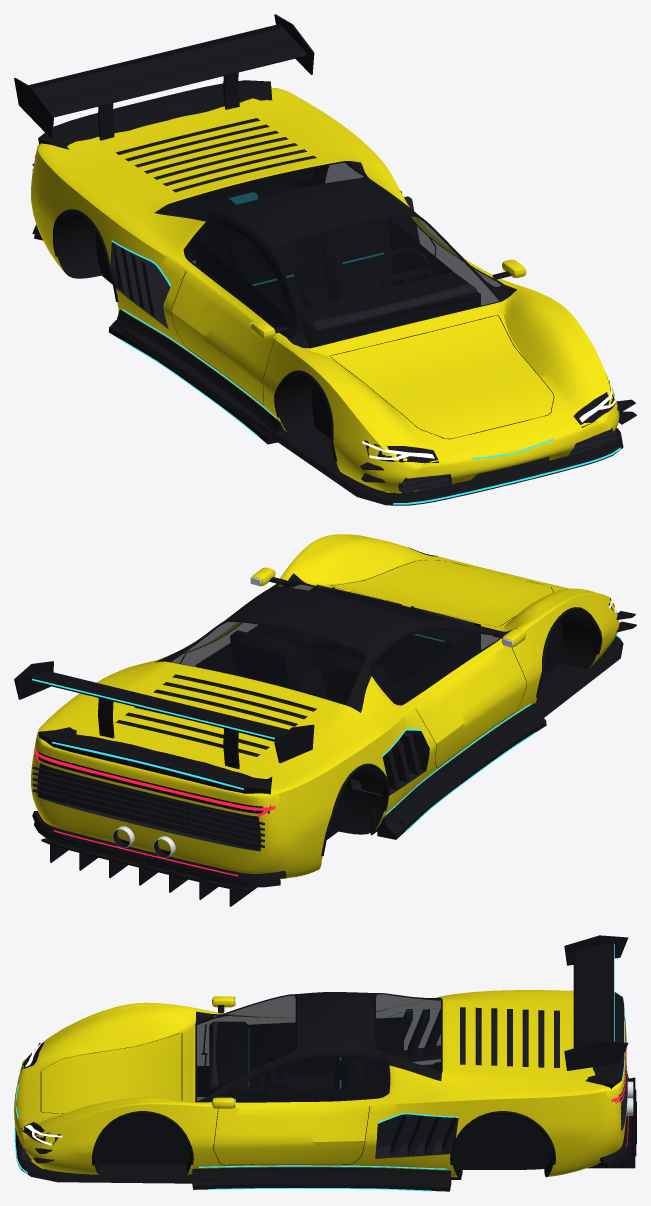
File: car_vektor.glb
The picture shows the model from 3 angles, top to bottom: view 1: azimuth 30°, elevation 25°; view 2: azimuth 150°, elevation 25°; view 3: azimuth 270°, elevation 25°; orthographic projection. The views are drawn at different scales.
Parts seen in each view (by area): view 1: body, spoiler_2_parts, kit_1_parts, spoiler_1_parts; view 2: body, kit_1_parts, spoiler_2_parts, spoiler_1_parts, kit_0_parts; view 3: body, kit_1_parts, spoiler_2_parts, spoiler_1_parts.
Part boxes in pixels (x1,y1,x2,y2): body: (31, 87, 619, 493); spoiler_2_parts: (14, 14, 314, 140); kit_1_parts: (32, 224, 636, 505); spoiler_1_parts: (38, 80, 272, 149); body: (31, 534, 619, 878); kit_1_parts: (32, 611, 636, 906); spoiler_2_parts: (14, 661, 314, 769); spoiler_1_parts: (38, 727, 272, 794); kit_0_parts: (34, 704, 532, 887); body: (14, 990, 633, 1177); kit_1_parts: (14, 1043, 636, 1191); spoiler_2_parts: (564, 935, 628, 1070); spoiler_1_parts: (585, 992, 624, 1088).
Bounding box in the file's own units: 2.11 × 1.23 × 4.77.
